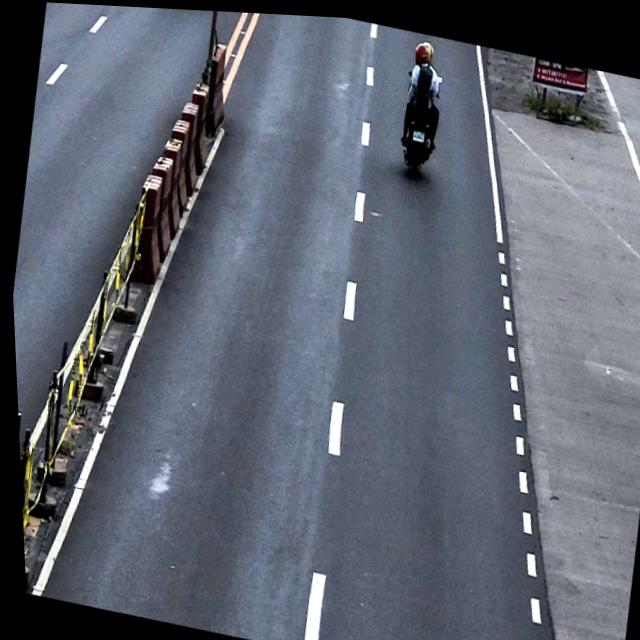License-Plate: (410, 123, 425, 139)
Motorcycle: (392, 61, 448, 176)
